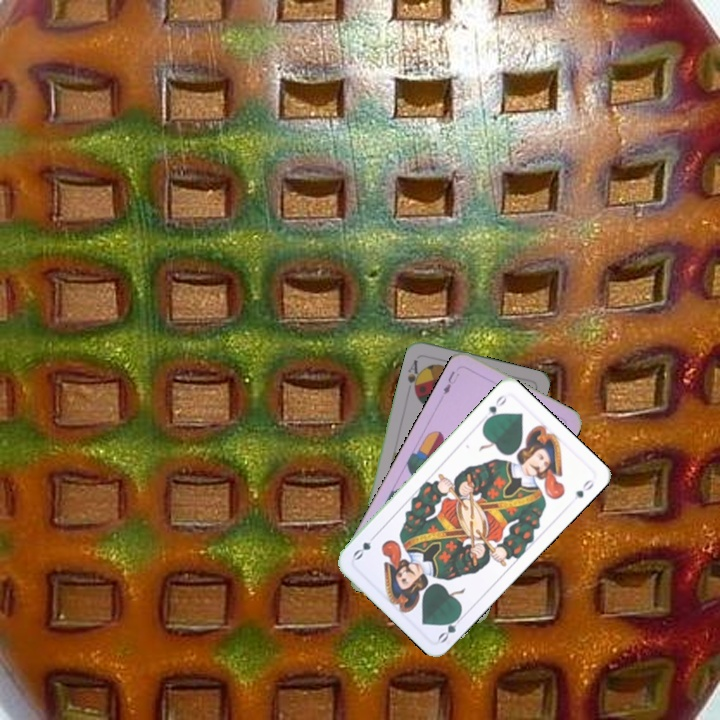EU: (439, 367, 462, 397)
GO: (434, 609, 467, 645), (480, 391, 510, 426)
SA: (403, 356, 424, 395)
